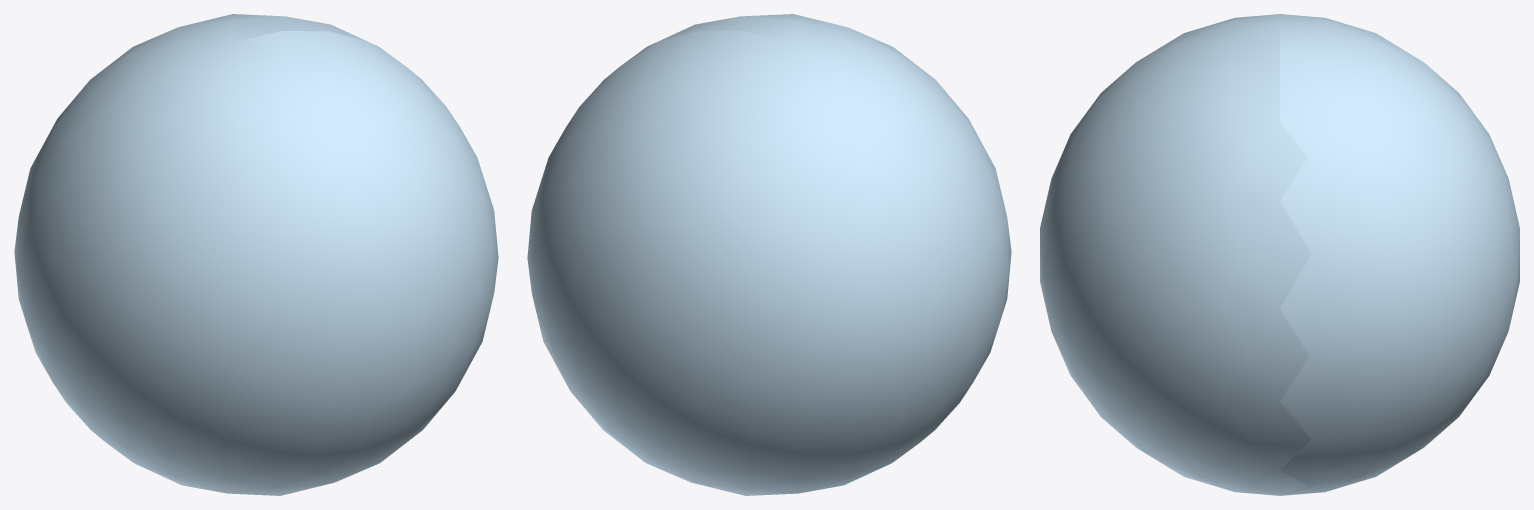
File: glass-ball-7.glb
3 views of the same model, side by side, from view 1: azimuth 30°, elevation 25°; view 2: azimuth 150°, elevation 25°; view 3: azimuth 270°, elevation 25° (orthographic).
Parts seen in each view (by area): view 1: bubble; view 2: bubble; view 3: bubble.
Part boxes in pixels (x1,y1,x2,y2): bubble: [14, 14, 498, 495]; bubble: [527, 14, 1011, 495]; bubble: [1040, 14, 1519, 495].
Size of the model in its own units: 2 by 2 by 2.
